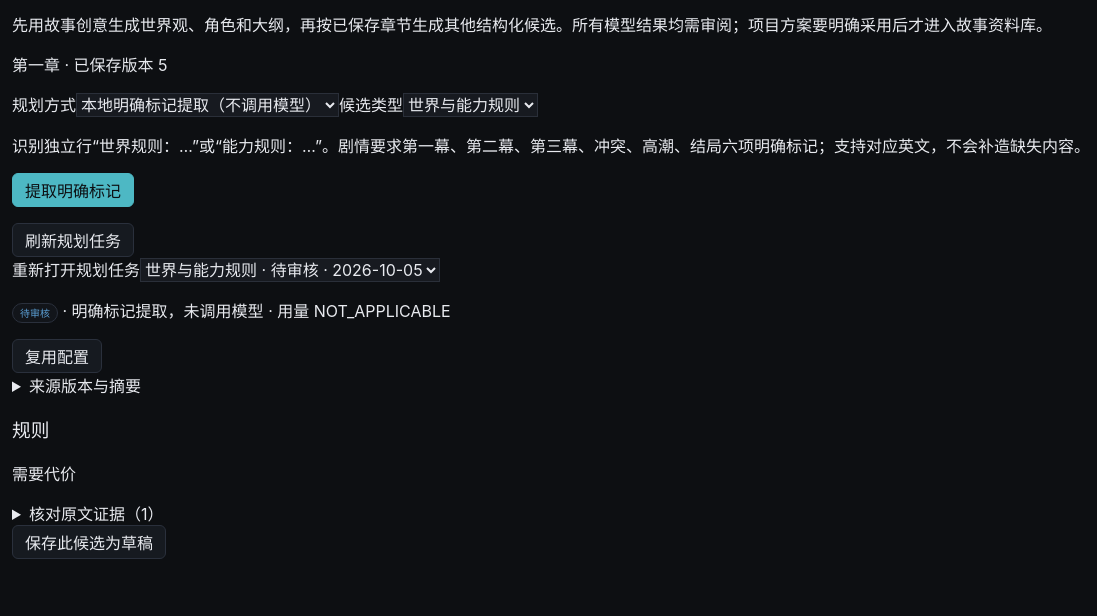
structured planning review › reopens evidence and explicitly saves only as Draft with optimistic version
The width and height of the screenshot is (1097, 616).
Click the button "保存此候选为草稿" at (89, 542), box [12, 525, 166, 559]
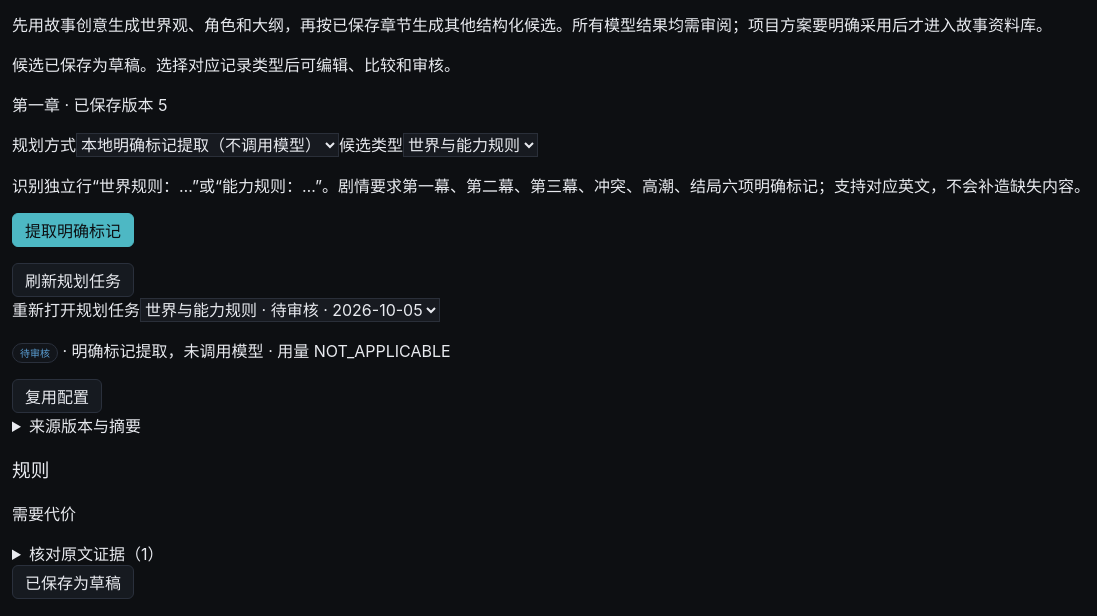
Check: the button "已保存为草稿" is shown, box [12, 565, 134, 599]
